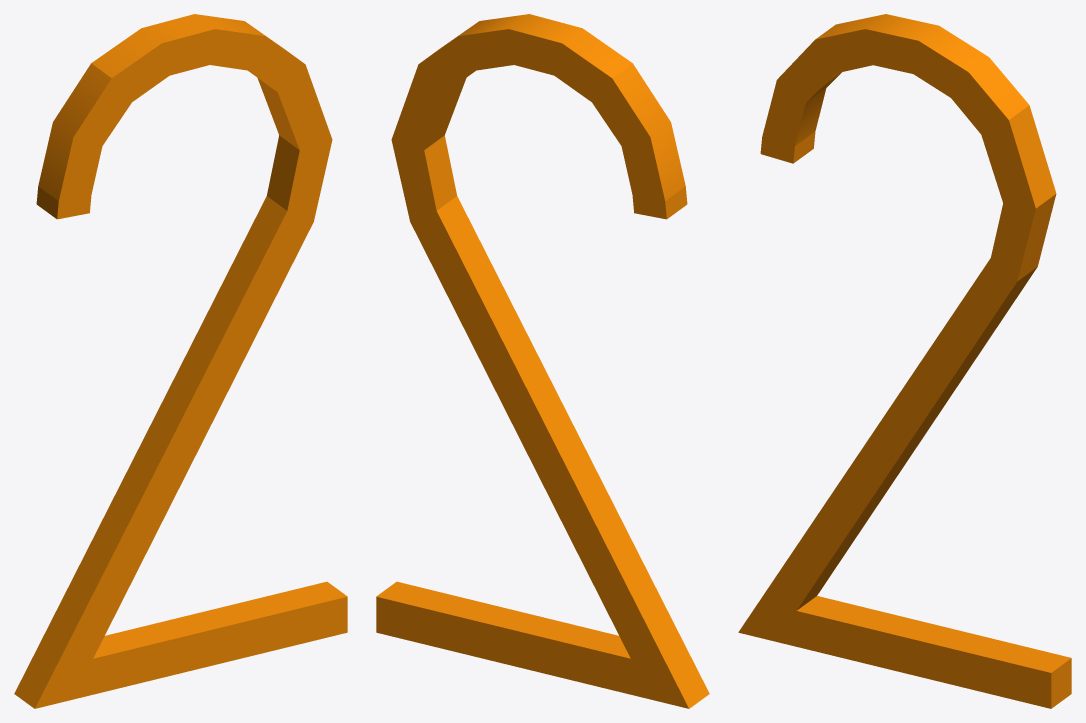
3 renders of one model, left to right at view 1: azimuth 30°, elevation 25°; view 2: azimuth 150°, elevation 25°; view 3: azimuth 330°, elevation 25°, orthographic.
Visible parts, largest first — view 1: 2; view 2: 2; view 3: 2.
Boxes of the visible parts, x1,y1,x2,y2 form: 2: (14,14,347,708); 2: (376,14,709,708); 2: (738,14,1071,708).
Bounding box in the file's own units: 43.91 × 85.23 × 5.
